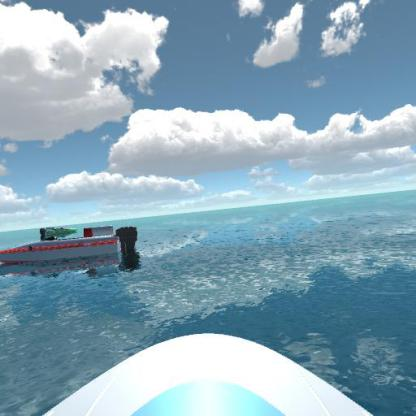usv0: (38, 220, 80, 239)
usv3: (1, 222, 140, 271)
